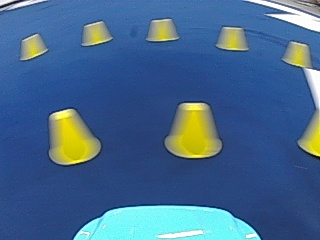cone: (166, 101, 222, 158), (46, 108, 99, 165), (298, 103, 319, 158), (82, 20, 112, 46), (216, 26, 247, 51), (20, 32, 47, 60), (282, 41, 311, 67), (146, 18, 178, 41)
